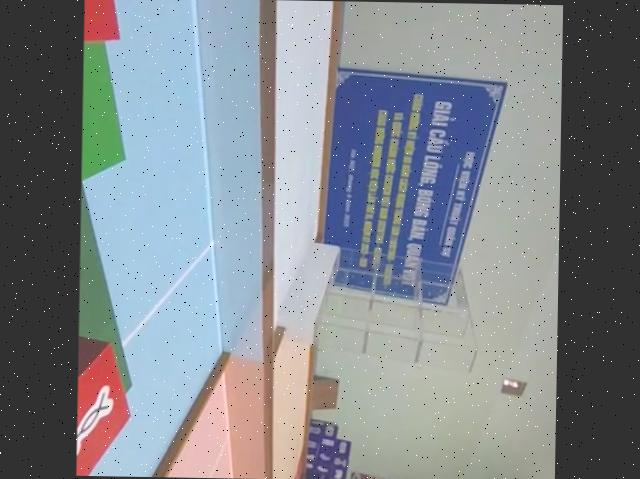R2 Real: (76, 329, 134, 476)
